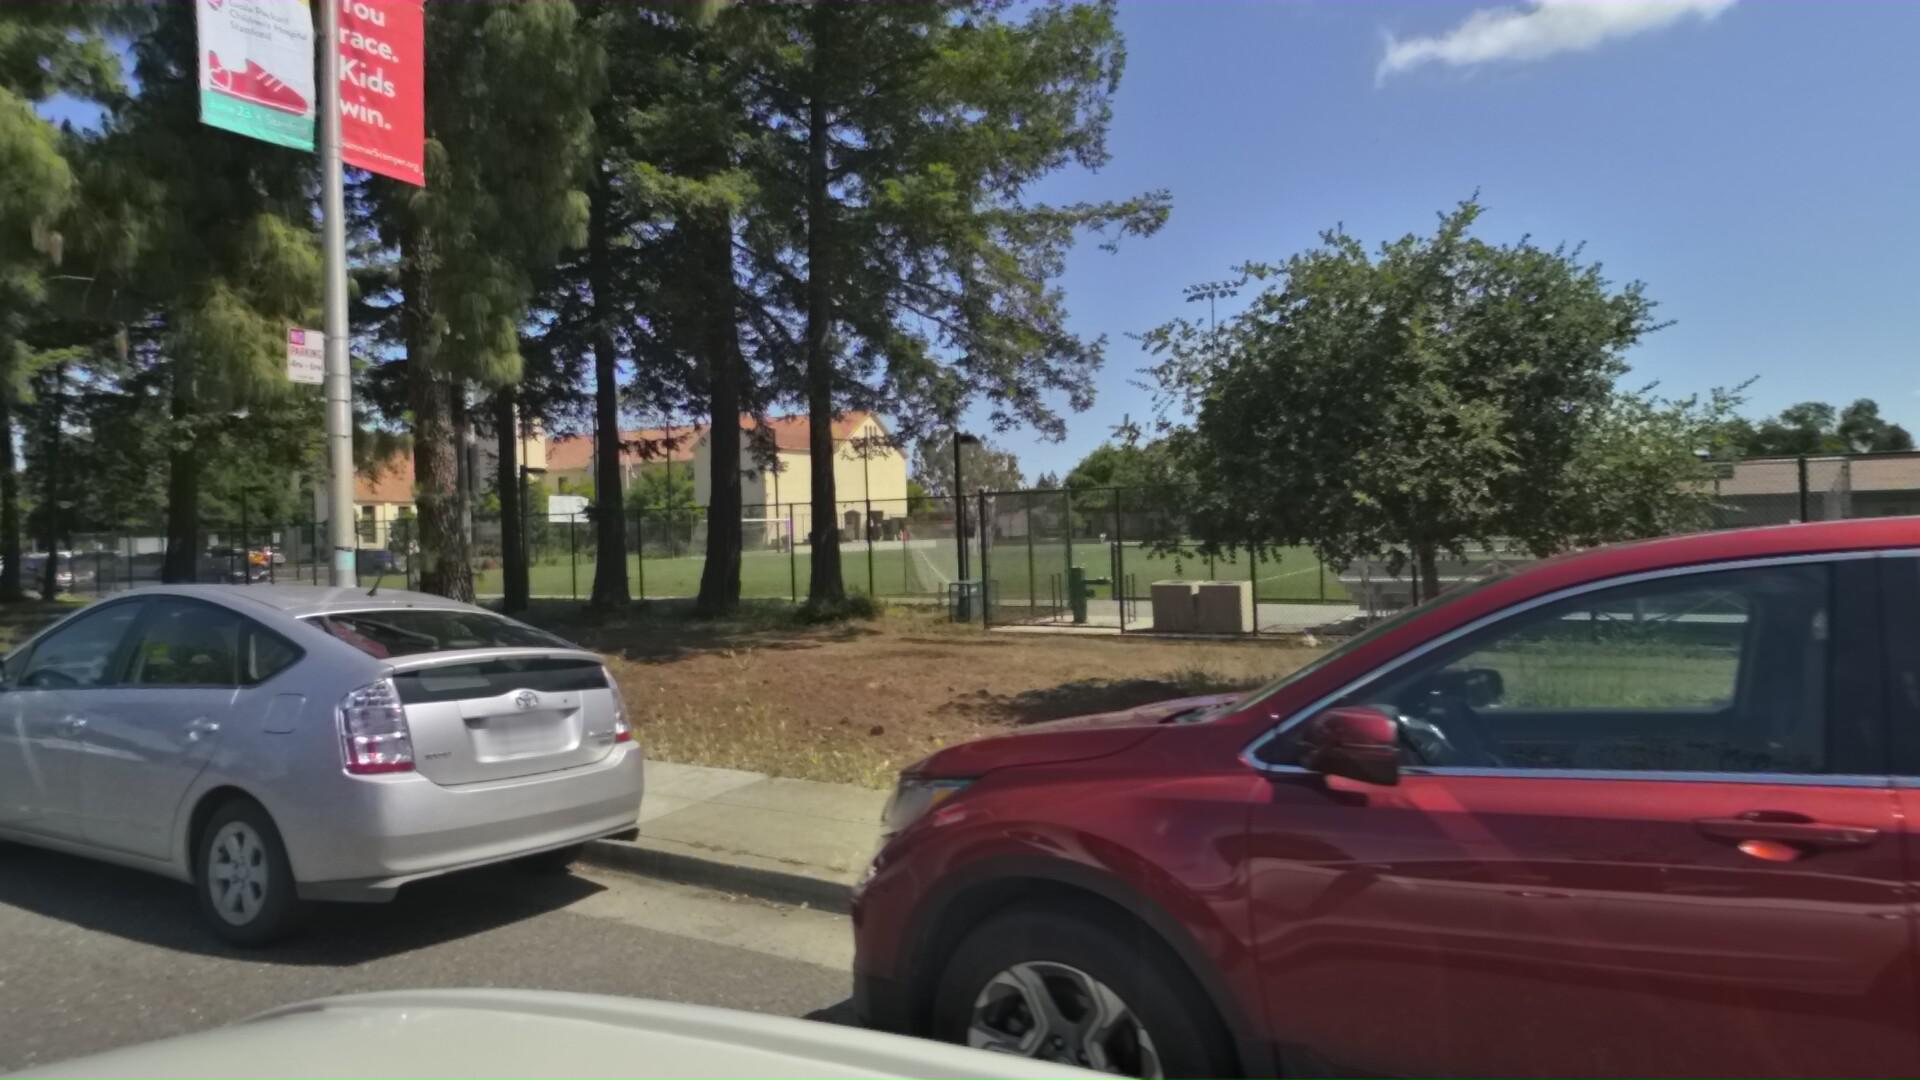car: (848, 294, 1920, 1080), (0, 559, 764, 1080)
